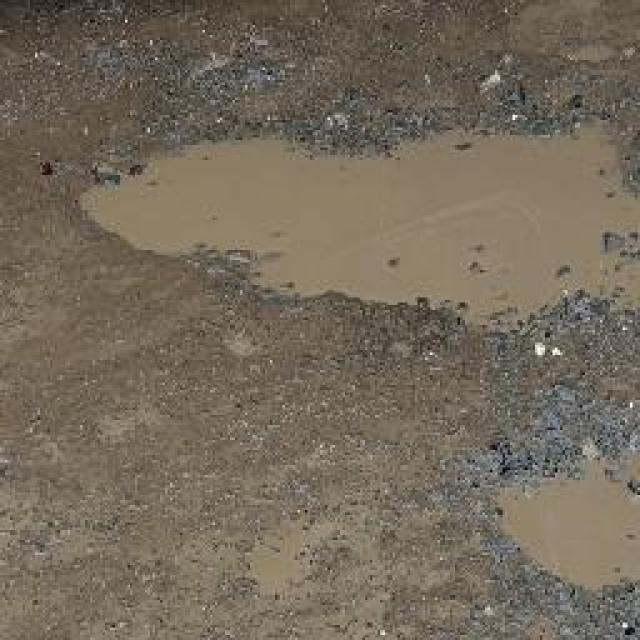waterlogging: (60, 97, 640, 345), (460, 423, 640, 612)
